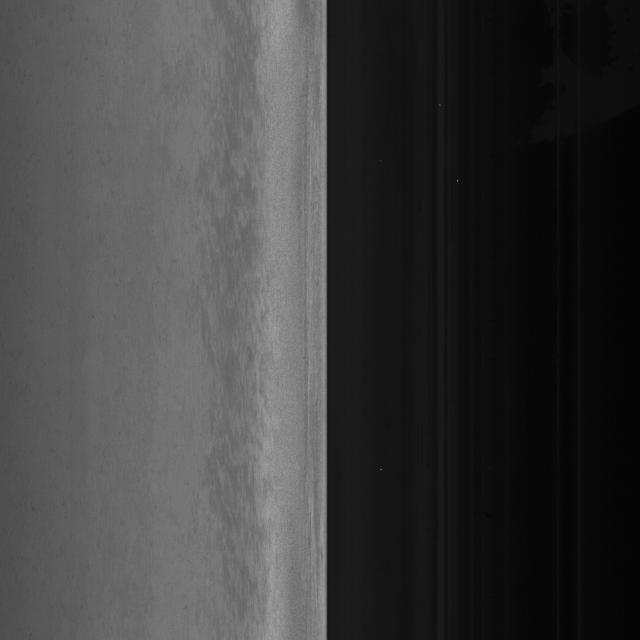inclusion: (212, 252, 282, 480)
